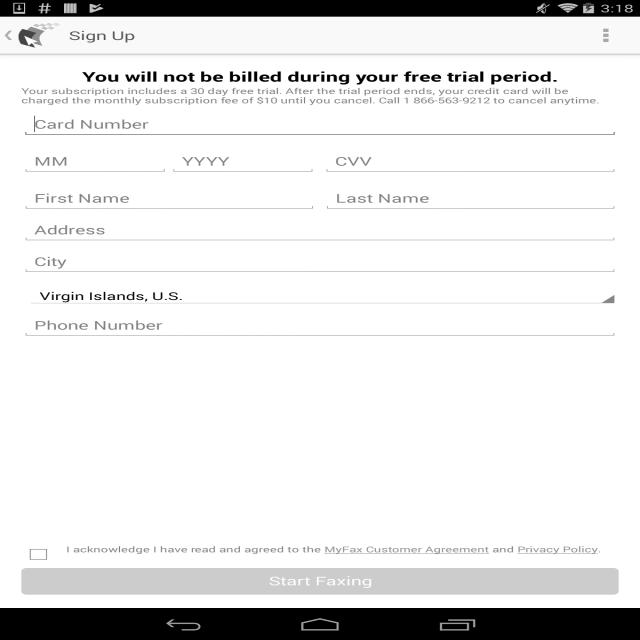Button: (21, 568, 619, 595)
CheckBox: (22, 544, 56, 565)
EditText: (21, 248, 619, 275), (21, 111, 619, 137), (21, 217, 619, 243), (21, 312, 619, 338), (322, 148, 619, 174), (21, 185, 318, 211), (322, 185, 618, 211), (21, 148, 169, 174), (169, 148, 317, 174)
ImageButton: (571, 16, 640, 54)
ImageView: (14, 19, 64, 52), (0, 30, 17, 41)
Spinner: (26, 285, 618, 307)
TextView: (21, 85, 614, 106), (21, 68, 619, 86), (31, 289, 602, 303), (66, 544, 601, 554), (69, 27, 135, 43)
